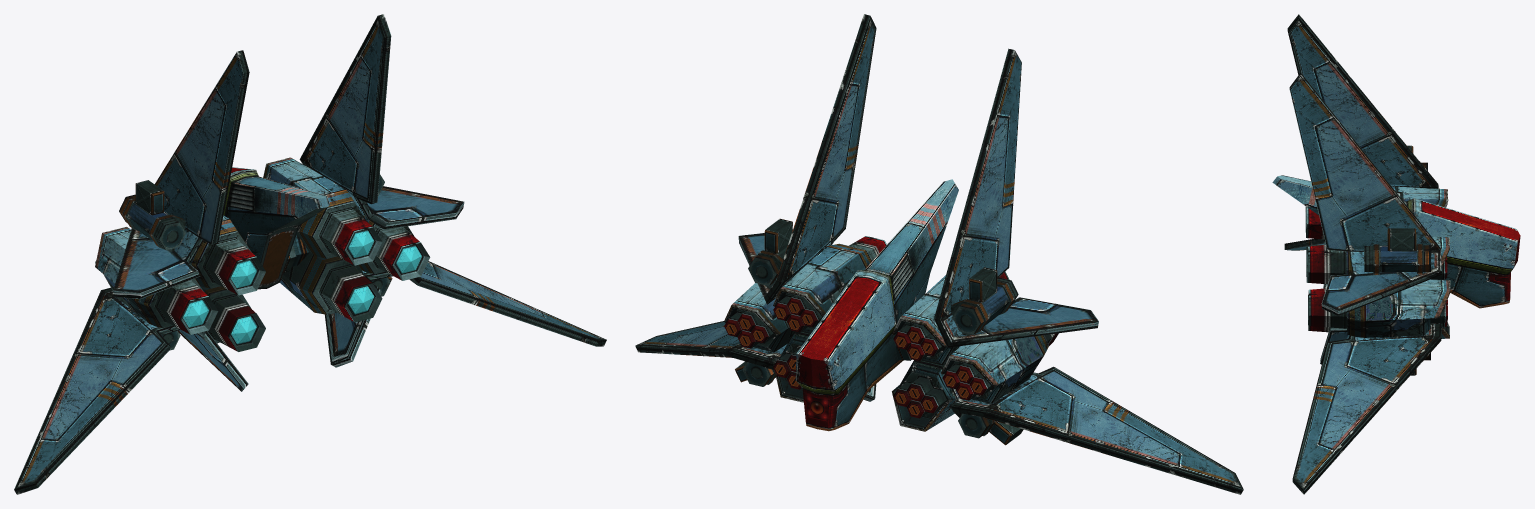
The model's file is droneH.obj.
The picture shows the model from 3 angles, left to right: view 1: azimuth 30°, elevation 25°; view 2: azimuth 150°, elevation 25°; view 3: azimuth 270°, elevation 25°; orthographic projection. The views are drawn at different scales.
Parts seen in each view (by area): view 1: drone_H_Mesh.032; view 2: drone_H_Mesh.032; view 3: drone_H_Mesh.032.
Part boxes in pixels (bbox=[...]): drone_H_Mesh.032: bbox=[14, 14, 606, 494]; drone_H_Mesh.032: bbox=[635, 14, 1243, 494]; drone_H_Mesh.032: bbox=[1272, 14, 1520, 494].
Size of the model in its own units: 3.6 by 2.23 by 1.53.
Materials: 1 (1 with a texture image).
